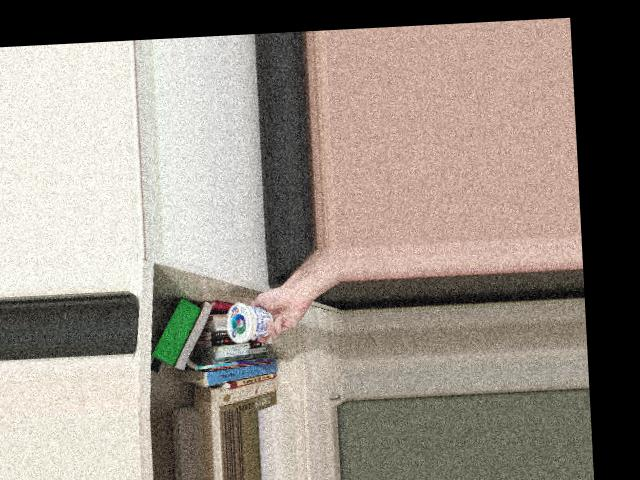cotage: (223, 302, 282, 344)
